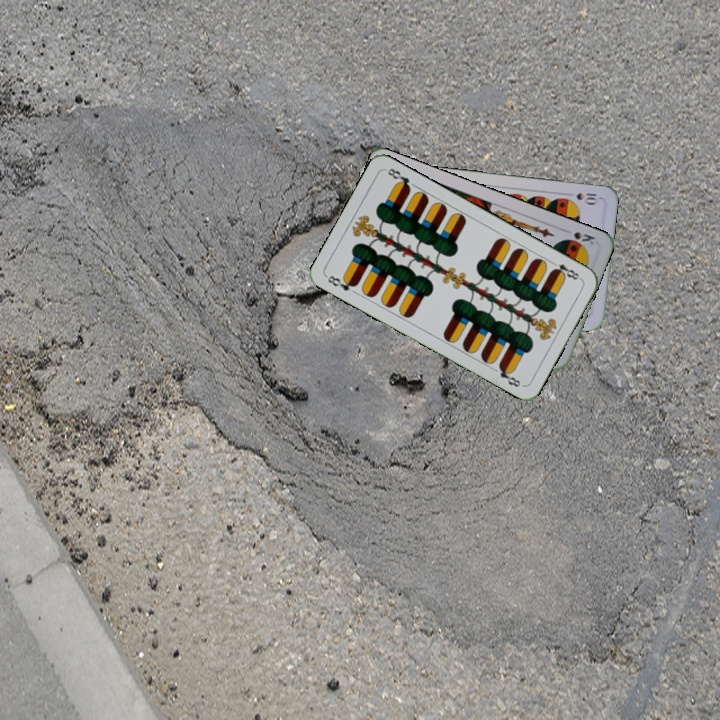E8: (547, 257, 584, 283), (322, 271, 360, 294)
S10: (562, 189, 602, 206)
SK: (559, 225, 598, 247)
